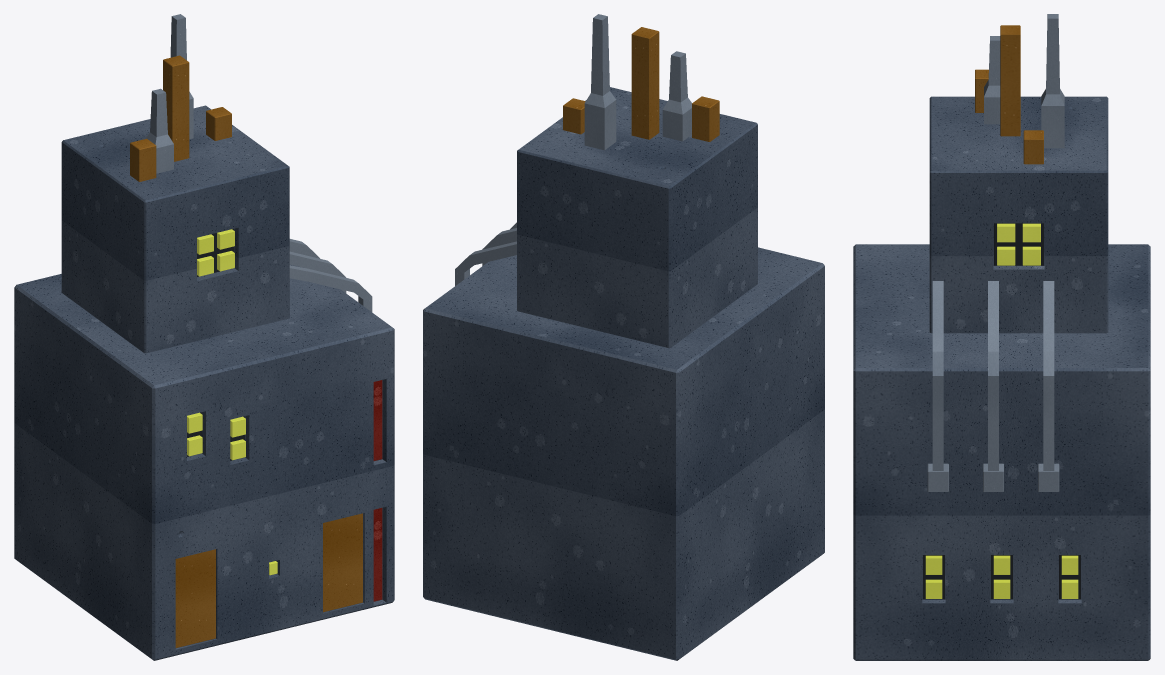
3 renders of one model, left to right at view 1: azimuth 30°, elevation 25°; view 2: azimuth 150°, elevation 25°; view 3: azimuth 270°, elevation 25°, orthographic. The views are drawn at different scales.
Visible parts, largest first — view 1: Health Block lower concrete body, Health Block smaller upper tower, Health Block lower brass panel 0, Health Block lower brass panel 1, Health Block nineteen amber panes, Health Block brass roof element 1, Health Block three angular service conduits, Health Block pale roof upright 0, Health Block brass roof element 0, Health Block red corner strip 0, Health Block pale roof upright 1, Health Block red corner strip 1 (+1 smaller); view 2: Health Block lower concrete body, Health Block smaller upper tower, Health Block brass roof element 1, Health Block pale roof upright 1, Health Block pale roof upright 0, Health Block three angular service conduits, Health Block brass roof element 0, Health Block brass roof element 2; view 3: Health Block lower concrete body, Health Block smaller upper tower, Health Block three angular service conduits, Health Block nineteen amber panes, Health Block brass roof element 1, Health Block pale roof upright 1, Health Block three attached lower mounts, Health Block pale roof upright 0, Health Block upper right backing, Health Block brass roof element 2, Health Block brass roof element 0.
Boxes of the visible parts, x1,y1,x2,y2 form: Health Block lower concrete body: (14, 264, 394, 660); Health Block smaller upper tower: (61, 105, 289, 353); Health Block lower brass panel 0: (175, 549, 215, 647); Health Block lower brass panel 1: (323, 513, 362, 612); Health Block nineteen amber panes: (187, 229, 277, 575); Health Block brass roof element 1: (163, 55, 189, 161); Health Block three angular service conduits: (289, 239, 372, 311); Health Block pale roof upright 0: (145, 88, 173, 173); Health Block brass roof element 0: (130, 138, 156, 181); Health Block red corner strip 0: (373, 508, 382, 601); Health Block pale roof upright 1: (170, 14, 193, 139); Health Block red corner strip 1: (373, 380, 382, 460); Health Block lower concrete body: (423, 247, 824, 660); Health Block smaller upper tower: (517, 87, 757, 347); Health Block brass roof element 1: (631, 27, 659, 139); Health Block pale roof upright 1: (584, 14, 616, 150); Health Block pale roof upright 0: (662, 51, 691, 141); Health Block three angular service conduits: (455, 222, 516, 285); Health Block brass roof element 0: (692, 96, 719, 141); Health Block brass roof element 2: (563, 98, 585, 134); Health Block lower concrete body: (853, 244, 1150, 660); Health Block smaller upper tower: (929, 96, 1108, 333); Health Block three angular service conduits: (932, 281, 1054, 470); Health Block nineteen amber panes: (925, 223, 1078, 598); Health Block brass roof element 1: (1000, 25, 1020, 136); Health Block pale roof upright 1: (1041, 14, 1064, 148); Health Block three attached lower mounts: (927, 463, 1059, 491); Health Block pale roof upright 0: (984, 36, 1000, 124); Health Block upper right backing: (994, 223, 1043, 265); Health Block brass roof element 2: (1023, 130, 1043, 164); Health Block brass roof element 0: (975, 69, 988, 112).
Bounding box in the file's own units: 1.48 × 3.02 × 1.4.
Materials: 6 (5 with a texture image).
